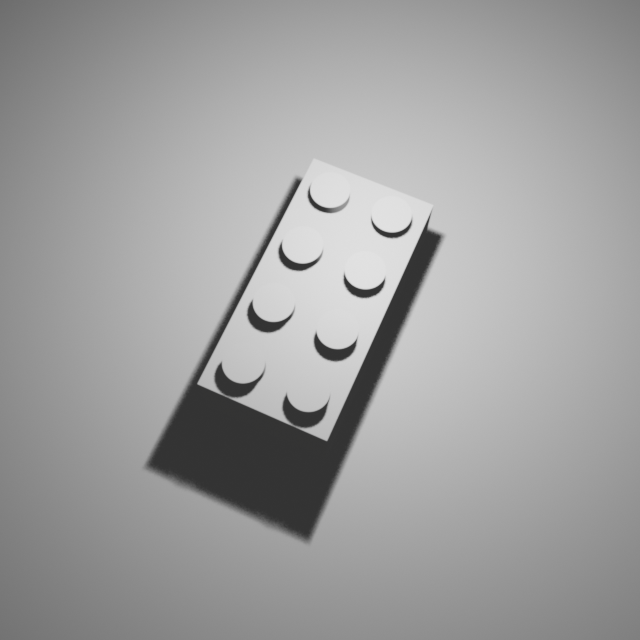lego_2x4: (196, 152, 435, 459)
